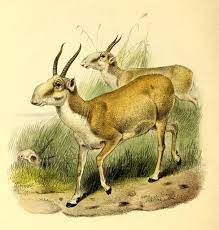saiga: (27, 42, 186, 205), (80, 33, 202, 120)
